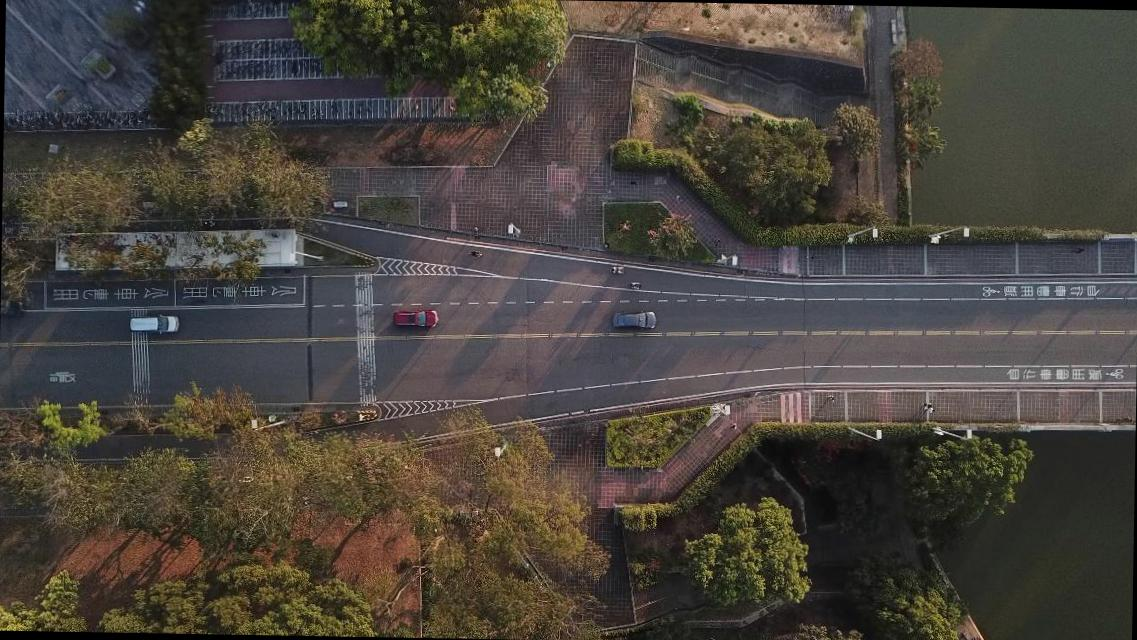vehicle: (129, 314, 178, 334), (612, 308, 656, 329), (394, 308, 438, 328)
